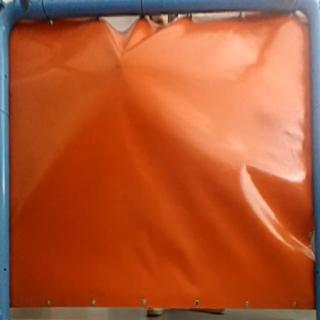Hit-hRxx: (110, 50, 128, 67)
